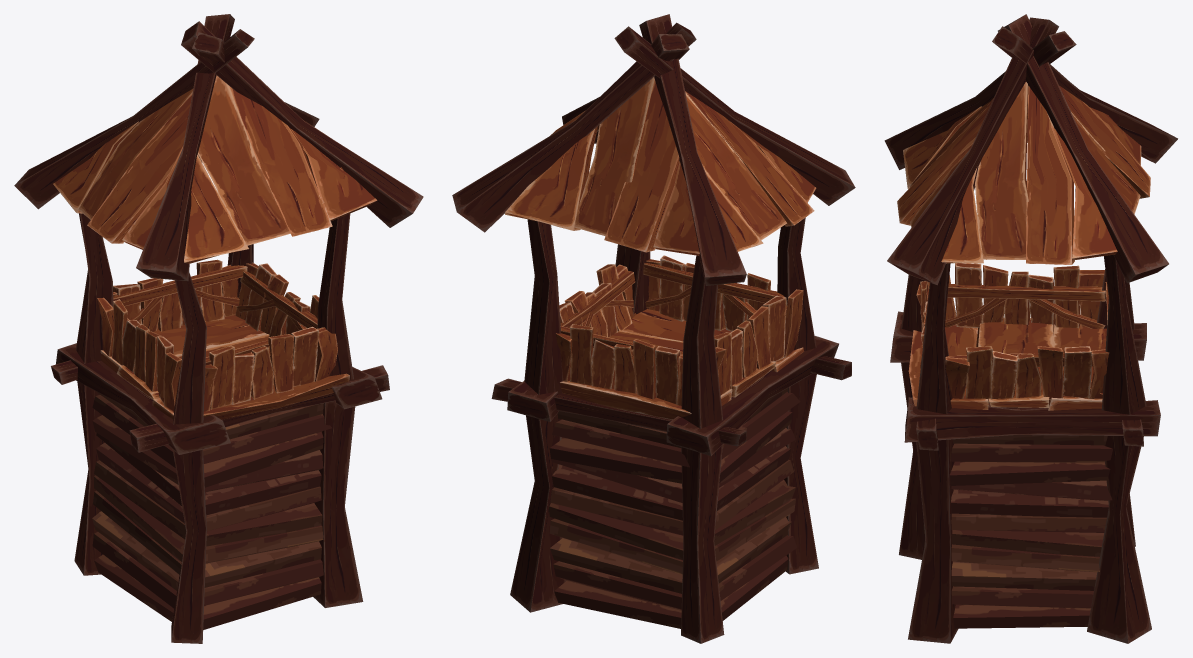
Rendered from SM_PROP_watchtower_wood_02.fbx.
3 renders of one model, left to right at view 1: azimuth 30°, elevation 25°; view 2: azimuth 150°, elevation 25°; view 3: azimuth 270°, elevation 25°, orthographic. The views are drawn at different scales.
Visible parts, largest first — view 1: SM_PROP_watchtower_wood_02; view 2: SM_PROP_watchtower_wood_02; view 3: SM_PROP_watchtower_wood_02.
Boxes of the visible parts, x1=… form: SM_PROP_watchtower_wood_02: x1=14, y1=14, x2=423, y2=643; SM_PROP_watchtower_wood_02: x1=452, y1=14, x2=855, y2=643; SM_PROP_watchtower_wood_02: x1=884, y1=14, x2=1177, y2=643.
Size of what is drawn, in the model's own units: 734 by 1310 by 608.
